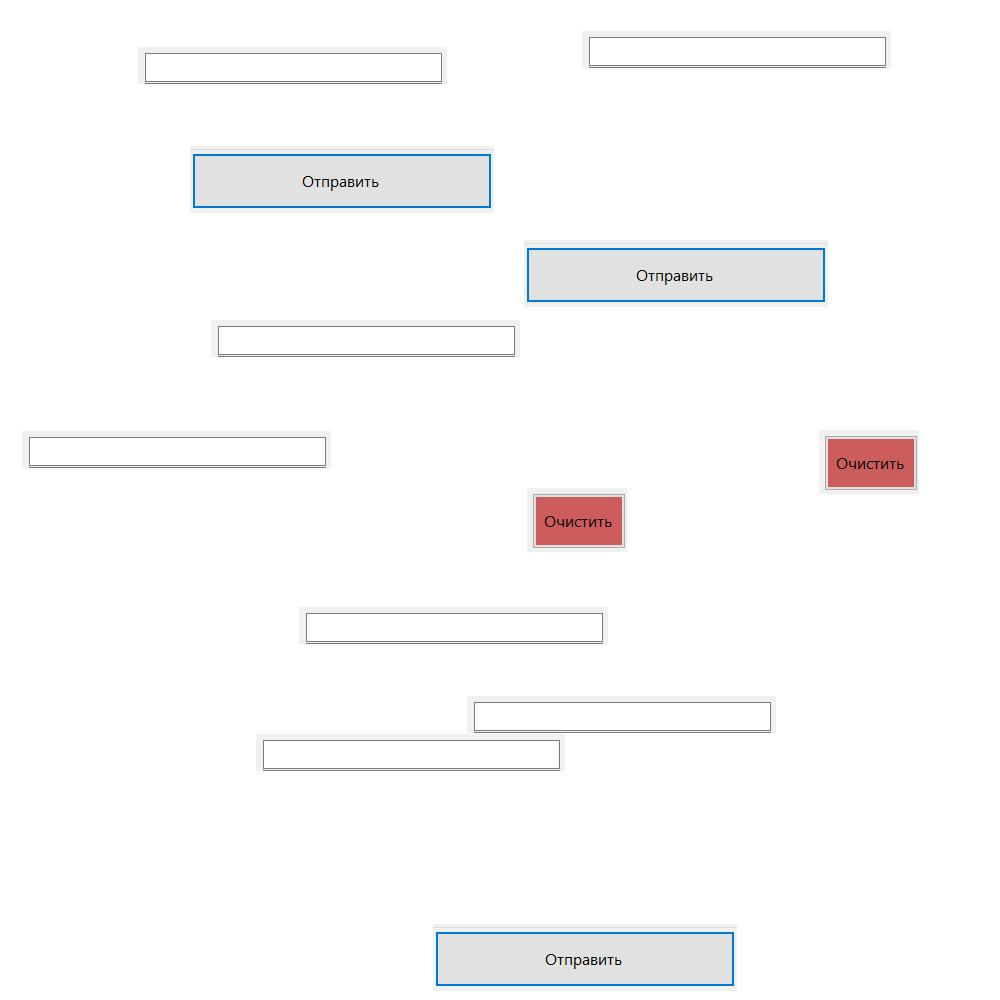Button: (433, 924, 737, 991), (524, 240, 828, 307), (190, 146, 494, 213), (527, 488, 627, 552), (819, 430, 919, 494)
EditText-: (256, 734, 565, 771), (22, 431, 331, 468), (211, 320, 520, 357), (299, 607, 608, 644), (467, 696, 776, 733), (138, 47, 447, 84), (582, 31, 891, 68)
